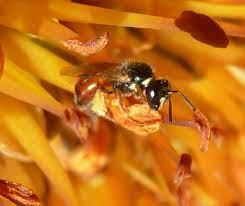Allodapula: (58, 57, 203, 126)
